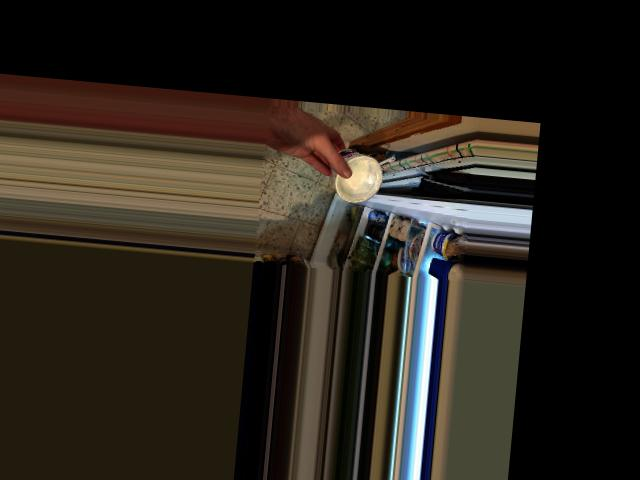cotage: (322, 139, 387, 205)
